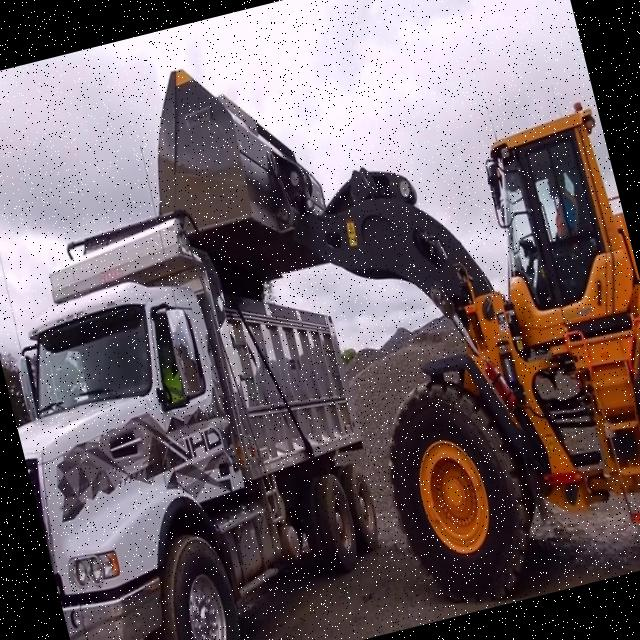Dump Truck: (0, 178, 410, 640)
Loader: (126, 0, 640, 640)
